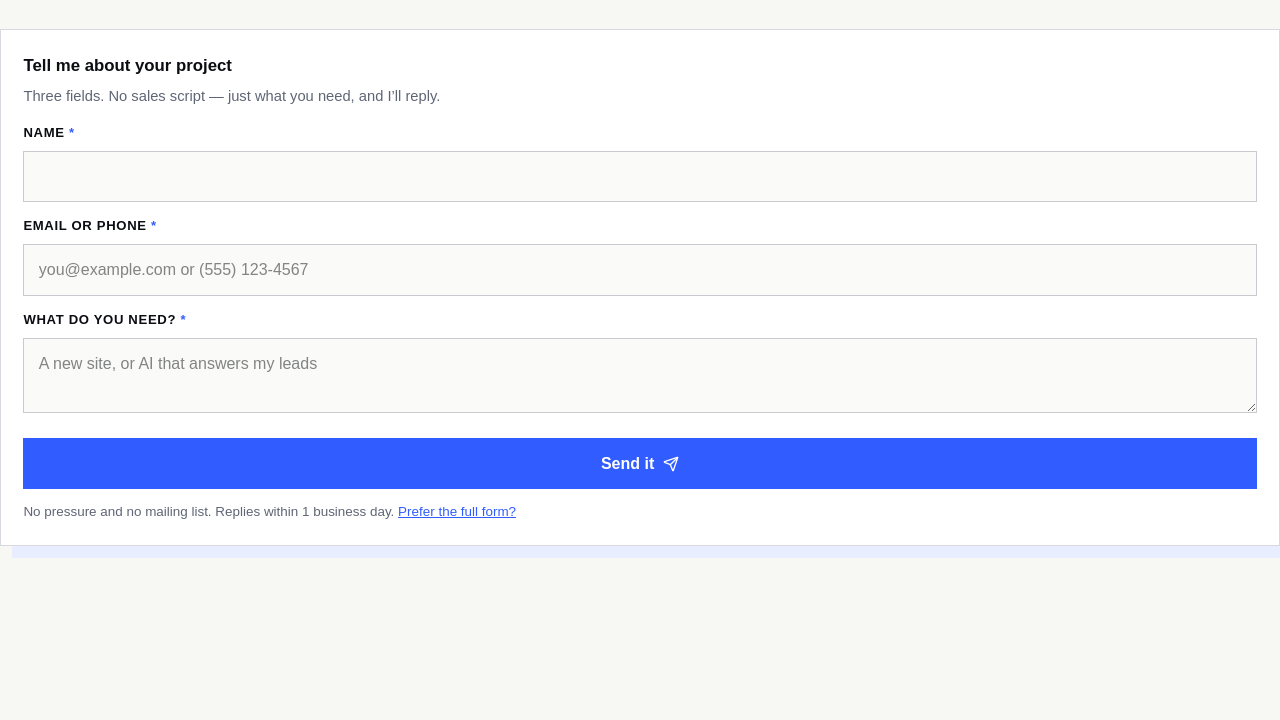
Test case: homepage quick quote › refuses to send without a reply route, and says so once
In the field labelled "Name *": (640,176) left=23, top=150, right=1257, bottom=202, type "Jamie Rivera"
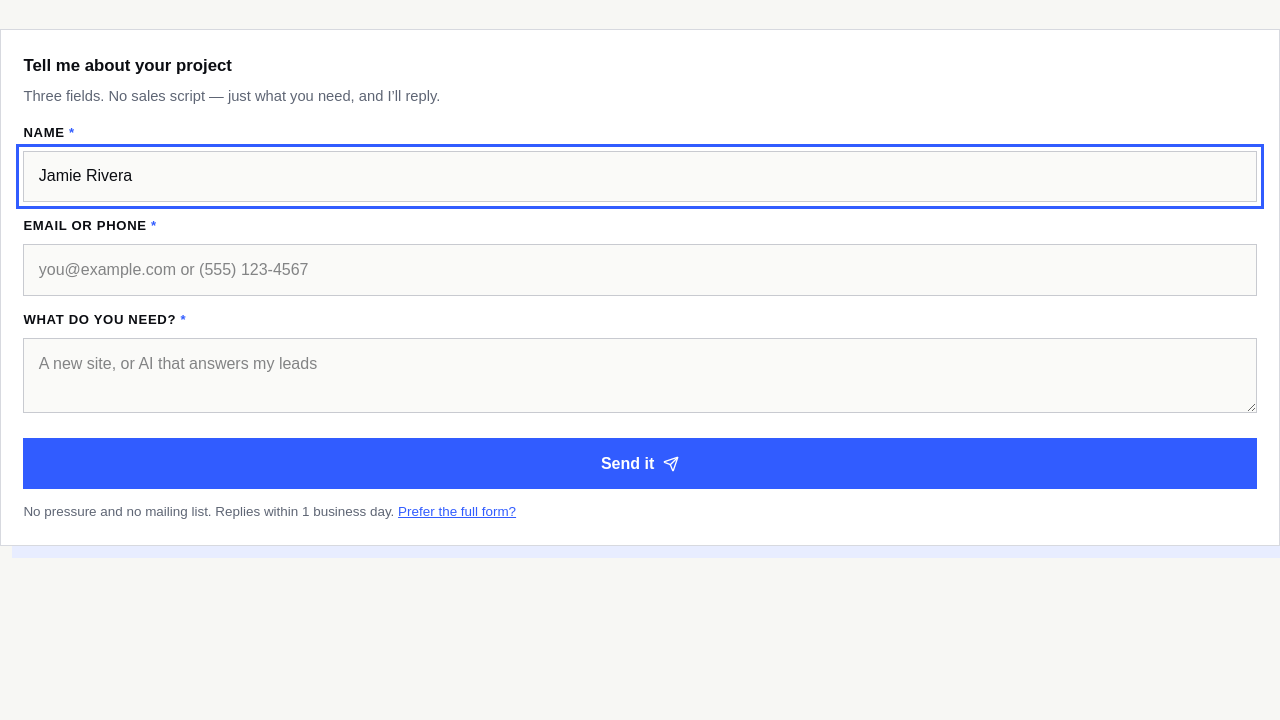
In the text box labelled "What do you need? *": (640,376) left=23, top=338, right=1257, bottom=413, type "New site for my plumbing company"
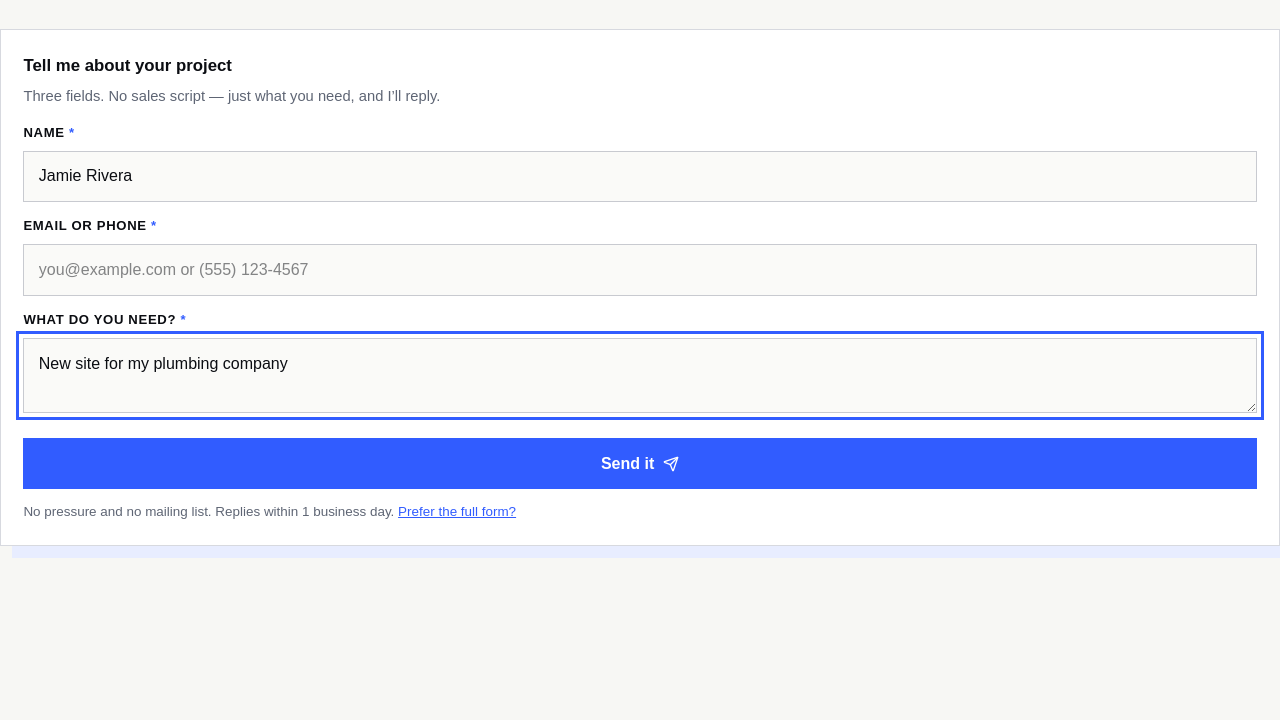
Click the button "Send it": (640,464) left=23, top=438, right=1257, bottom=489
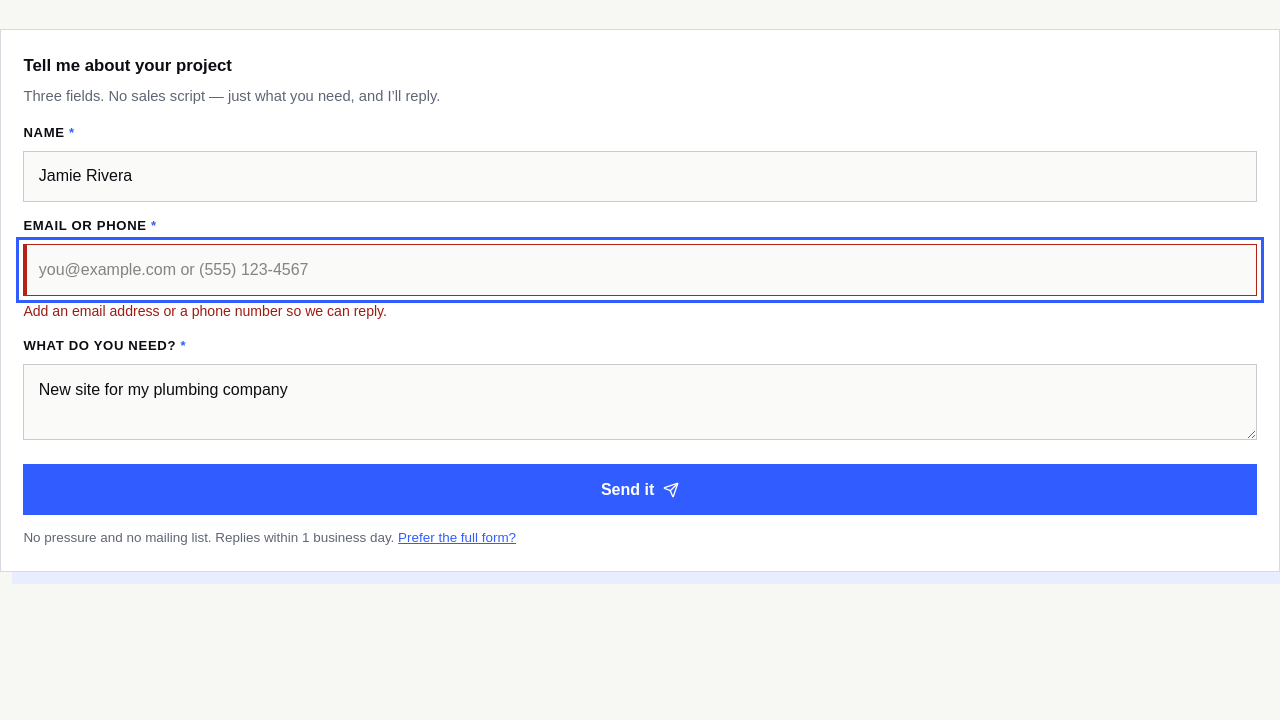
Check: the number of messages is 1, box left=23, top=303, right=387, bottom=319
Check: the message shows "email address or a phone", box left=23, top=303, right=387, bottom=319
